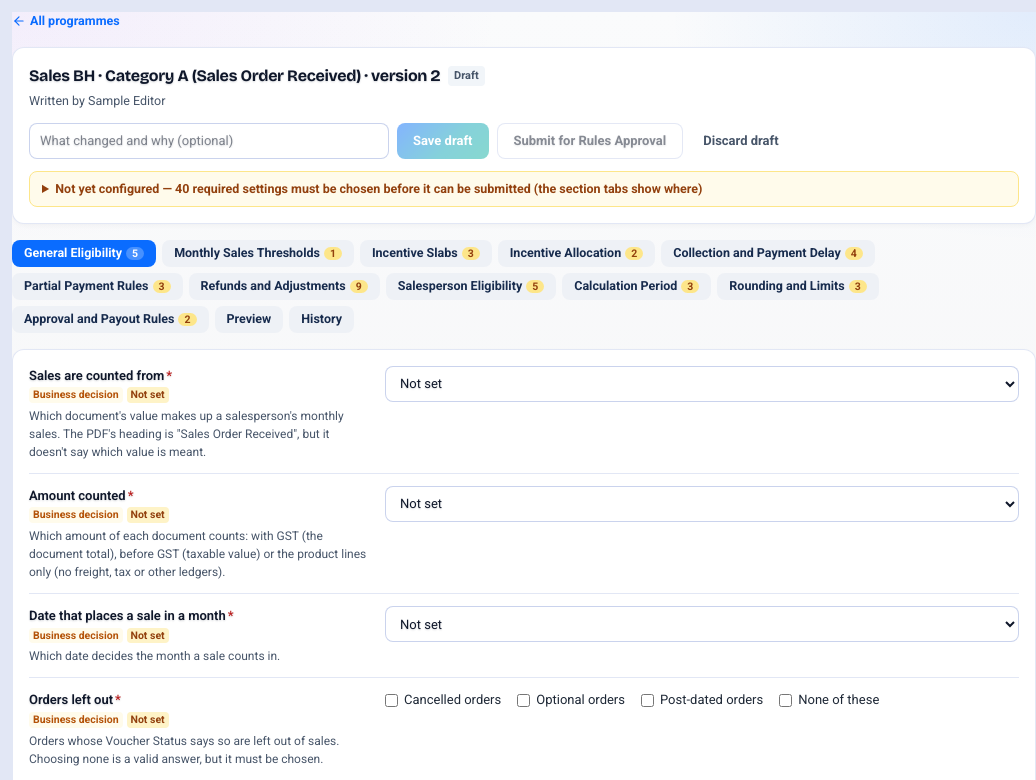
Scenario: the version editor › has a tab for each of the eleven sections, a preview and the history; lists what isn't configured; badges each setting's source
The image size is (1036, 780).
Check: the element "Not yet configured" shows "must be chosen before it can be submitted", box [288, 180, 702, 196]
Check: the button "Submit for Rules Approval" is disabled, box [496, 122, 683, 158]
What coordinates should you click on to do the following:
click the tab "Monthly Sales Thresholds1"
I would click on:
 (258, 254)
Its box is [162, 240, 354, 267].
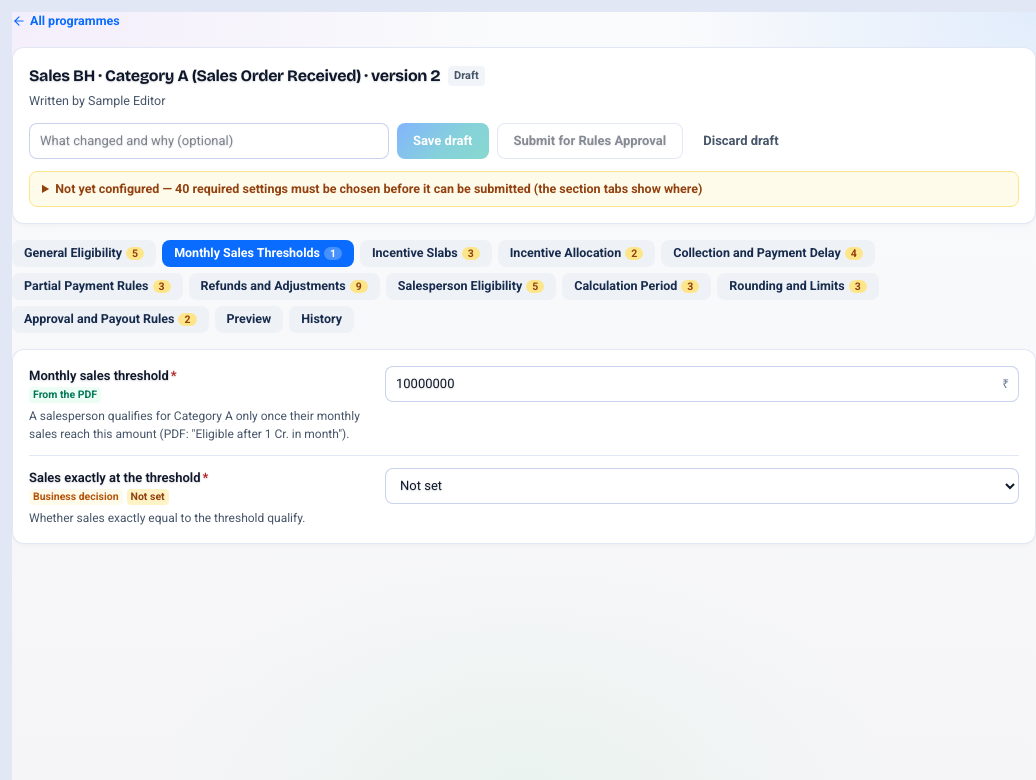
Check: the text "Business decision" is shown, box [29, 489, 122, 505]
Check: the field named "Monthly sales threshold" holds "10000000", box [385, 366, 1019, 402]
Check: the text "From the PDF" is shown, box [29, 387, 101, 403]
